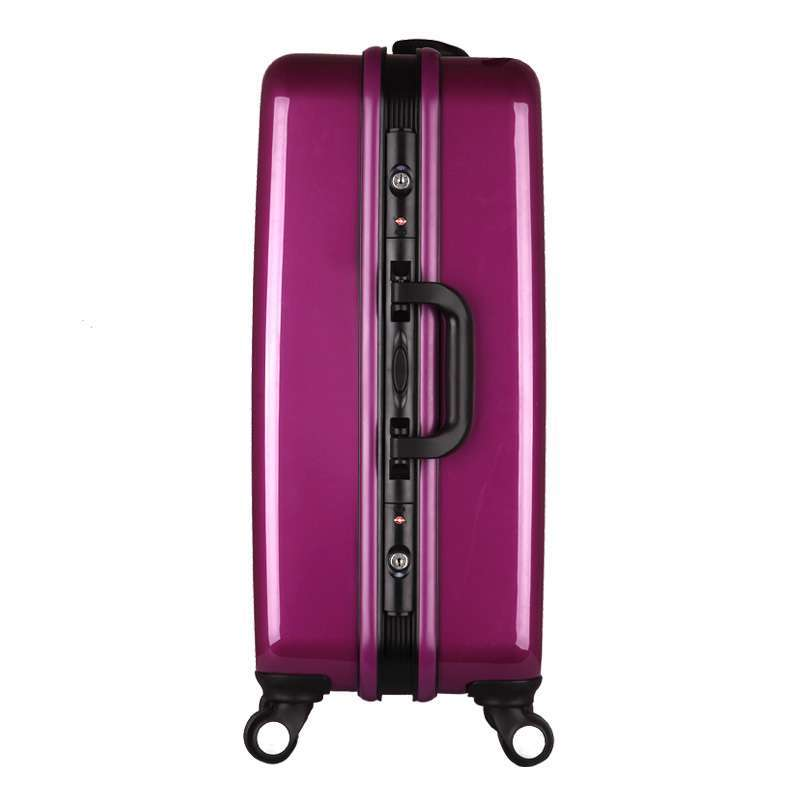suitcase: (243, 39, 555, 767)
